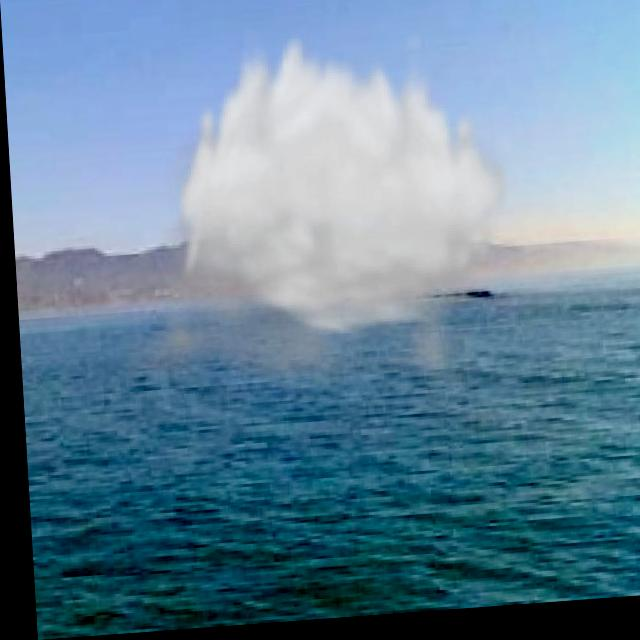Smoke: (93, 20, 520, 429)
